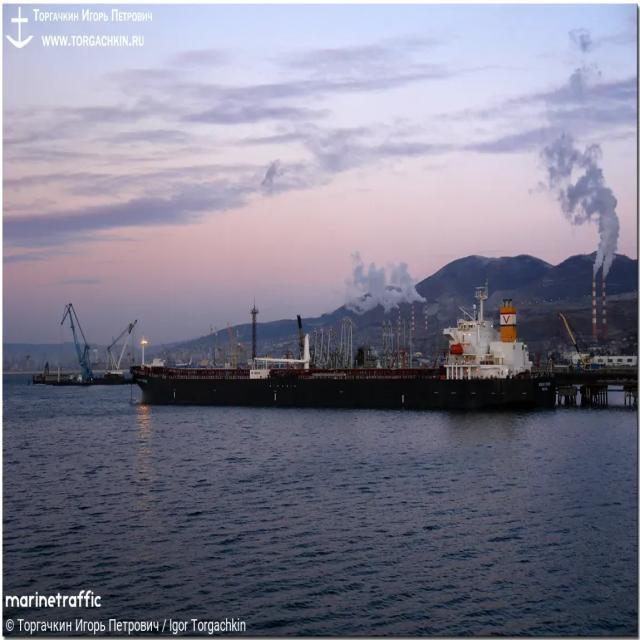Tanker: (132, 287, 555, 409)
